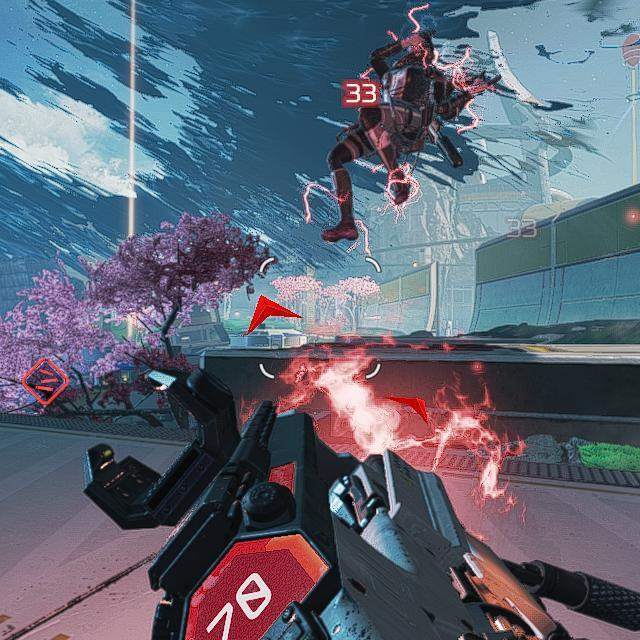avatar: (318, 25, 476, 247)
